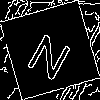N: (25, 25, 78, 82)
